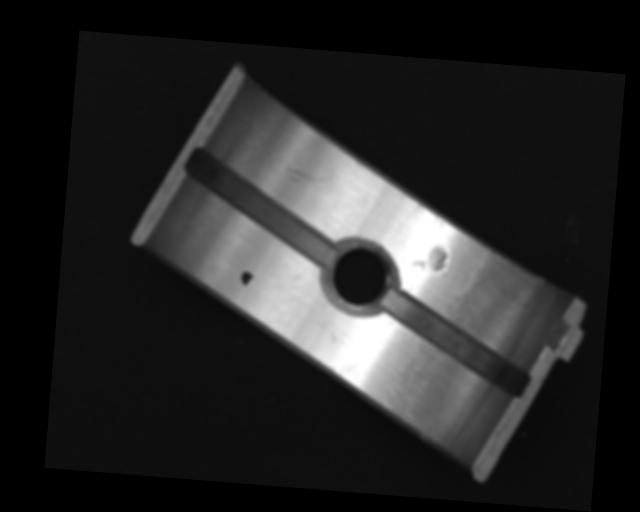blot: (240, 270, 254, 287)
bruise: (410, 242, 449, 273)
gap: (180, 147, 340, 268), (376, 290, 533, 397)
hole: (323, 237, 398, 318)
nick: (284, 165, 335, 186)
